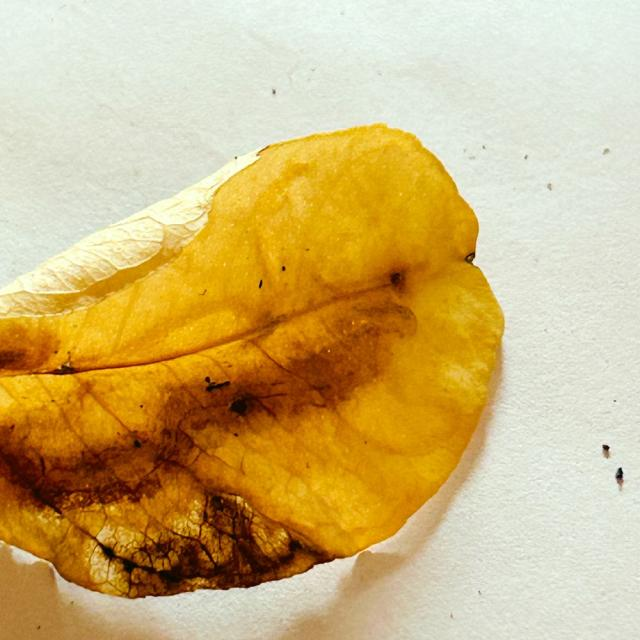DryLeaf_Lemon: (0, 125, 503, 598)
